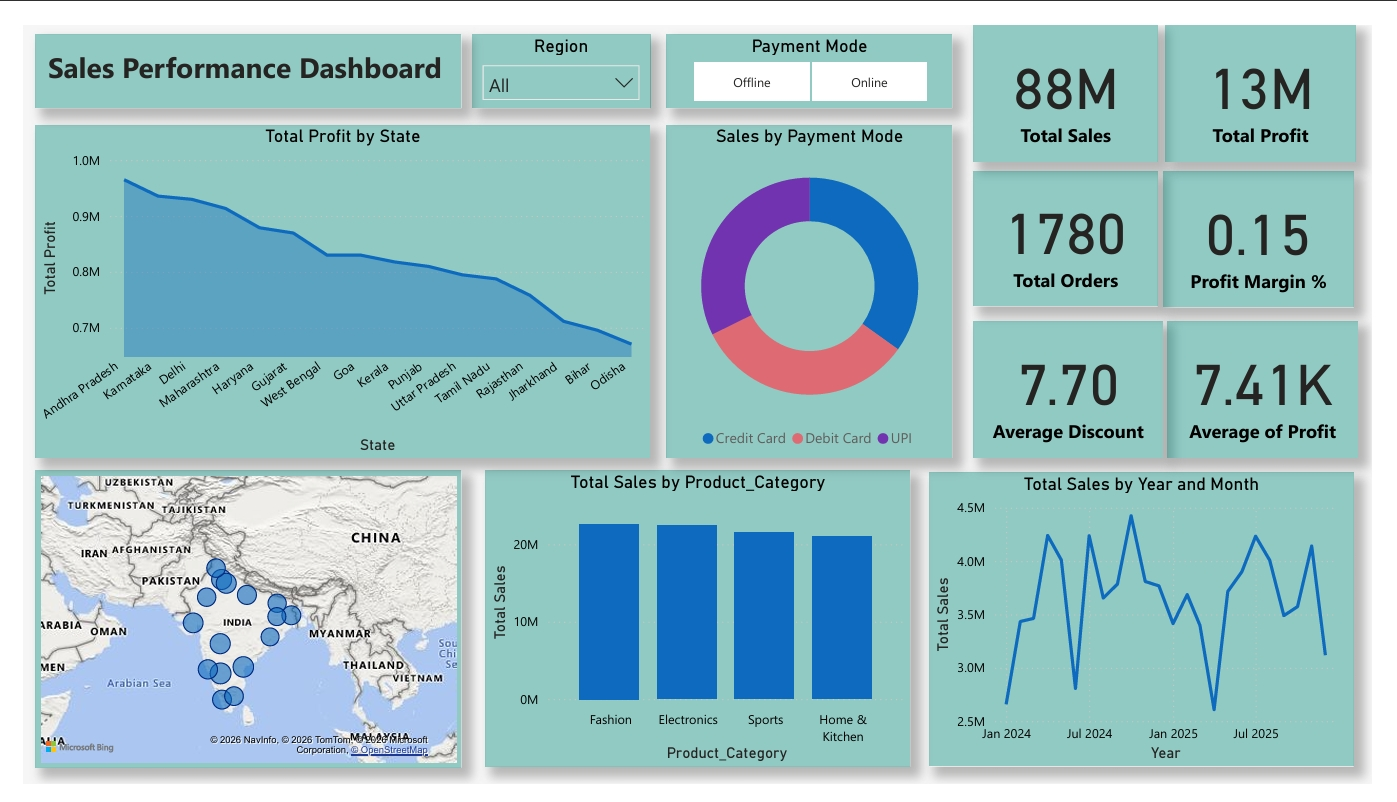

The page's visual inventory and layout, read from the dashboard file:
{"tool":"powerbi","page":{"name":"Page 1","canvas":[1280,720],"ordinal":0},"visuals":[{"type":"card","fields":{"Values":["sales_dashboard.Total Sales"]},"box":[901.8,0,175.4,129.8],"z":0},{"type":"card","fields":{"Values":["sales_dashboard.Total Profit"]},"box":[1084.2,0,180.7,129.8],"z":1000},{"type":"card","fields":{"Values":["sales_dashboard.Total Orders"]},"box":[901.8,138.6,175.4,128.1],"z":2000},{"type":"card","fields":{"Values":["sales_dashboard.Profit Margin %"]},"box":[1082.5,138.6,180.7,129.8],"z":3000},{"type":"lineChart","fields":{"Y":["sales_dashboard.Total Sales"],"Category":["sales_dashboard.Order_Date.Variation.Date Hierarchy.Year","sales_dashboard.Order_Date.Variation.Date Hierarchy.Month"]},"box":[859.6,424.6,403.5,278.9],"z":4000},{"type":"columnChart","fields":{"Category":["sales_dashboard.Product_Category"],"Y":["sales_dashboard.Total Sales"]},"box":[438.6,422.8,403.5,280.7],"z":5000},{"type":"map","fields":{"Size":["sales_dashboard.Total Sales"],"Category":["sales_dashboard.State"]},"box":[12.3,422.8,403.5,282.5],"z":6000},{"type":"donutChart","title":"Sales by Payment Mode","fields":{"Category":["sales_dashboard.Payment_Mode"],"Y":["CountNonNull(sales_dashboard.Sales_Channel)"]},"box":[610.5,94.7,271.9,315.8],"z":7000},{"type":"slicer","title":"Region","fields":{"Values":["sales_dashboard.Region"]},"box":[426.3,8.8,168.4,70.2],"z":8000},{"type":"slicer","title":"Payment Mode","fields":{"Values":["sales_dashboard.Sales_Channel"]},"box":[610.5,8.8,271.9,70.2],"z":9000},{"type":"stackedAreaChart","fields":{"Category":["sales_dashboard.State"],"Y":["sales_dashboard.Total Profit"]},"box":[12.3,94.7,582.5,315.8],"z":10000},{"type":"card","fields":{"Values":["sales_dashboard.Average Discount"]},"box":[901.8,280.7,180.7,129.8],"z":11000},{"type":"card","fields":{"Values":["Avg(sales_dashboard.Profit)"]},"box":[1086,280.7,180.7,129.8],"z":12000},{"type":"textbox","box":[12.3,8.8,403.5,70.2],"z":13000}]}

Visuals, with their boxes in screenshot pixels (x1, y1, x2, y2), scaled from the page's 1280x720 canvas onto the 1397x802 screenshot:
card - sales_dashboard.Total Sales: <box>984,0,1176,145</box>
card - sales_dashboard.Total Profit: <box>1183,0,1381,145</box>
card - sales_dashboard.Total Orders: <box>984,154,1176,297</box>
card - sales_dashboard.Profit Margin %: <box>1181,154,1379,299</box>
lineChart - sales_dashboard.Total Sales x sales_dashboard.Order_Date.Variation.Date Hierarchy.Year: <box>938,473,1379,784</box>
columnChart - sales_dashboard.Product_Category x sales_dashboard.Total Sales: <box>479,471,919,784</box>
map - sales_dashboard.Total Sales x sales_dashboard.State: <box>13,471,454,786</box>
"Sales by Payment Mode" donutChart: <box>666,105,963,457</box>
"Region" slicer: <box>465,10,649,88</box>
"Payment Mode" slicer: <box>666,10,963,88</box>
stackedAreaChart - sales_dashboard.State x sales_dashboard.Total Profit: <box>13,105,649,457</box>
card - sales_dashboard.Average Discount: <box>984,313,1181,457</box>
card - Avg(sales_dashboard.Profit): <box>1185,313,1382,457</box>
textbox: <box>13,10,454,88</box>
